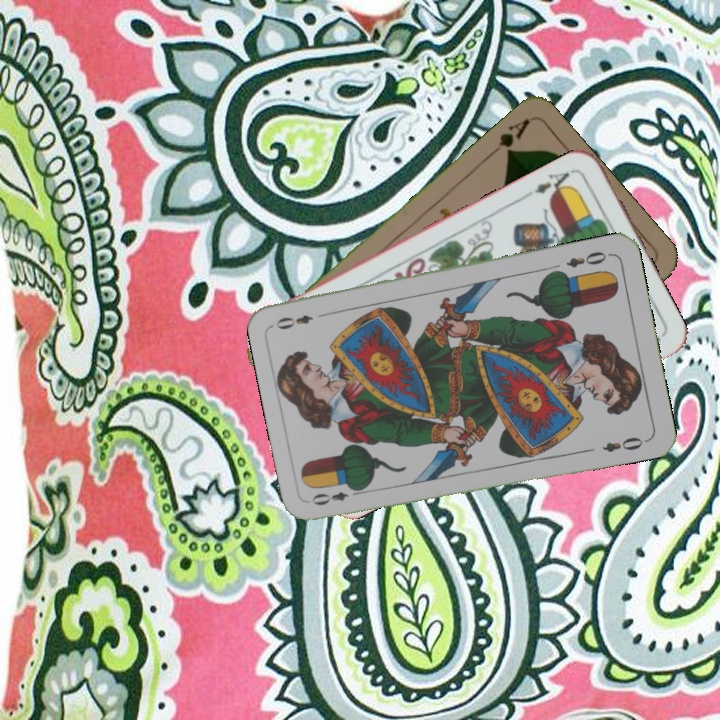EA: (530, 165, 577, 200)
EO: (307, 483, 365, 508), (562, 247, 614, 270)
GA: (484, 114, 533, 159)
